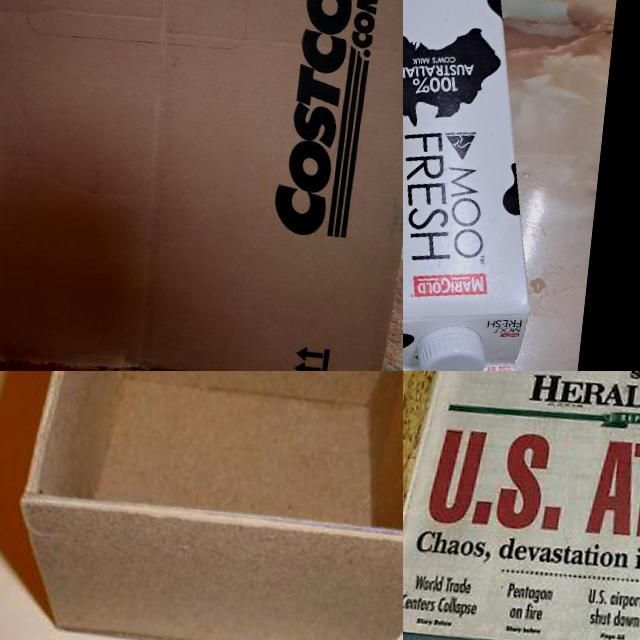caixinha: (403, 0, 570, 371)
papel: (403, 371, 640, 640)
papelão: (0, 0, 403, 371), (4, 371, 403, 640)
tampa plástica: (413, 324, 488, 371)
